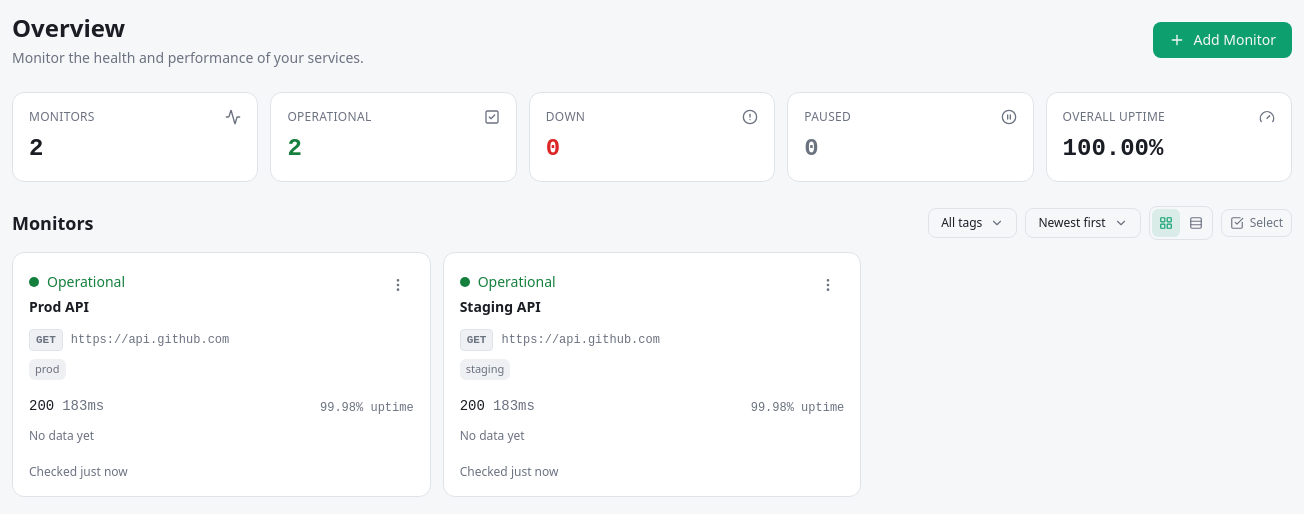
Test: Dashboard › filters the monitor list by tag
Expected: the heading "Prod API" is shown, [29,297,89,316]
Expected: the heading "Staging API" is shown, [460,297,541,316]
Click the button with aria-label "Filter by tag".
click(973, 223)  # box [928,208,1017,238]
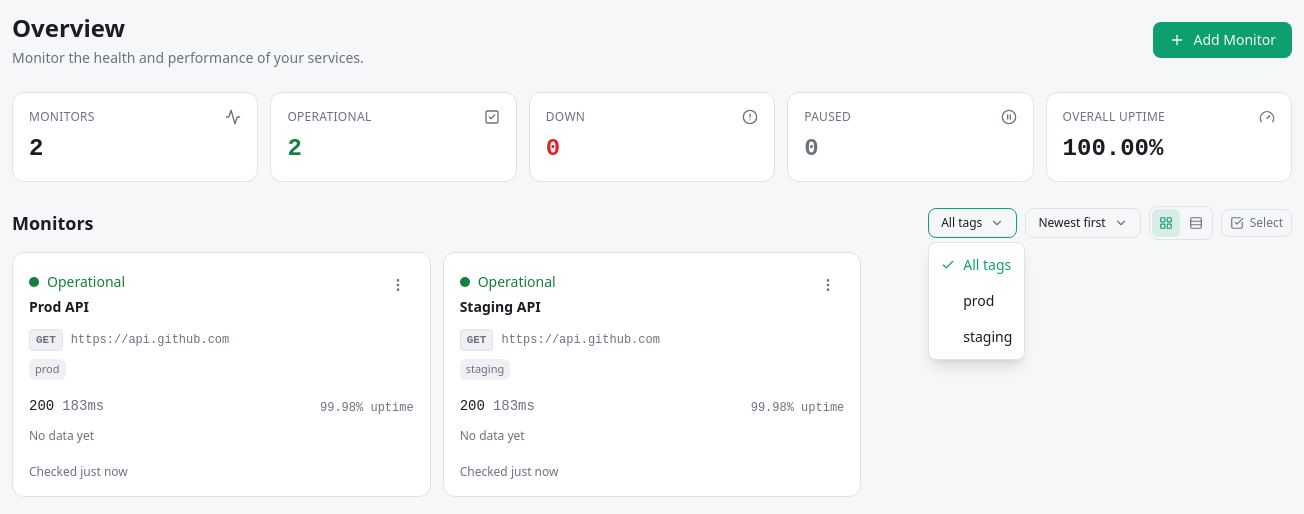
Click the option "prod".
click(977, 301)  # box [929,283,1024,319]
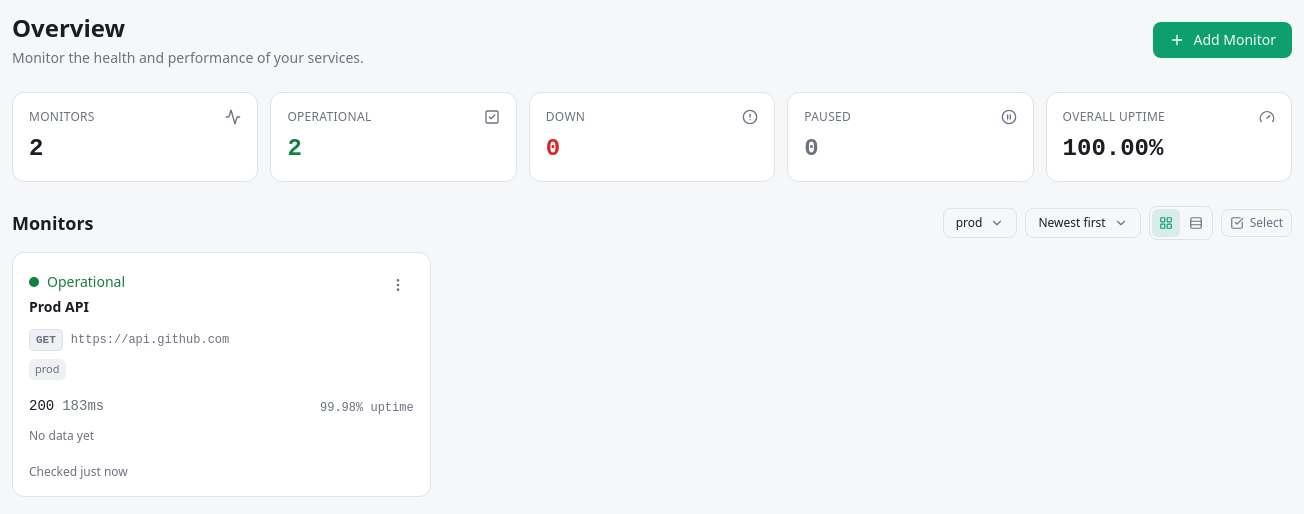
Expected: the heading "Prod API" is shown, [29,297,89,316]
Now the heading "Staging API" is gone
